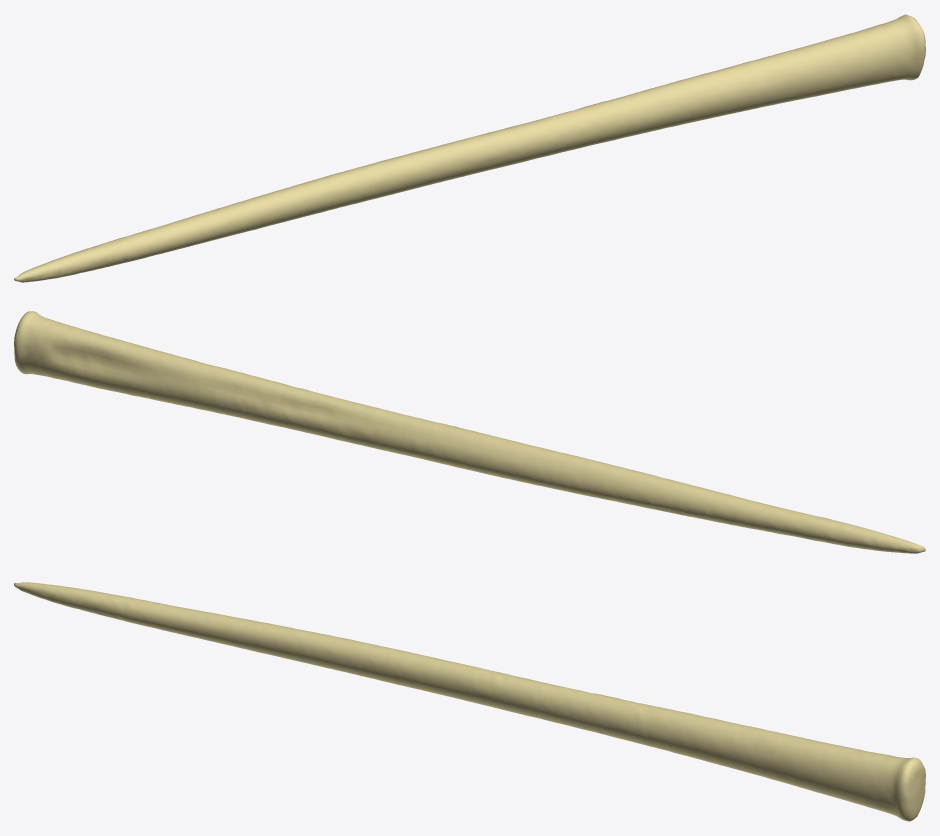
3 renders of one model, top to bottom at view 1: azimuth 30°, elevation 25°; view 2: azimuth 150°, elevation 25°; view 3: azimuth 330°, elevation 25°, orthographic. The views are drawn at different scales.
Parts seen in each view (by area): view 1: Object_2; view 2: Object_2; view 3: Object_2.
Part boxes in pixels (x1,y1,x2,y2): Object_2: (14, 14, 925, 282); Object_2: (14, 311, 925, 553); Object_2: (14, 582, 925, 821).
Bounding box in the file's own units: 1 × 0.0639 × 0.0556.
